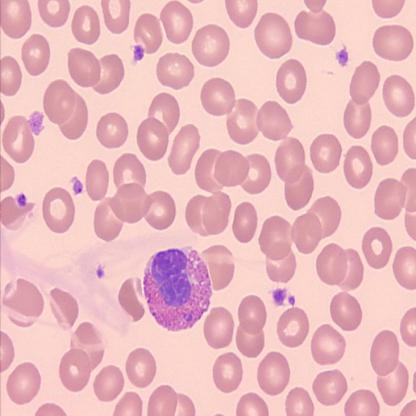Eosinophil: (143, 245, 212, 330)
